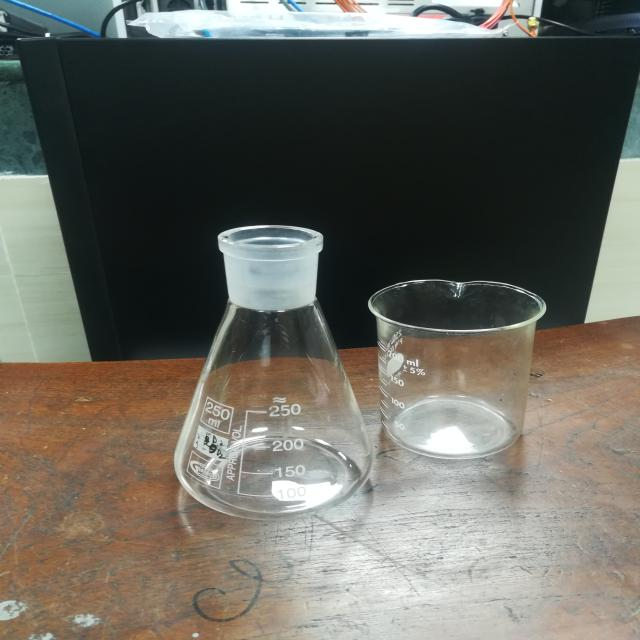Beaker: (358, 266, 592, 470)
Conical_Flask: (153, 205, 382, 537)
